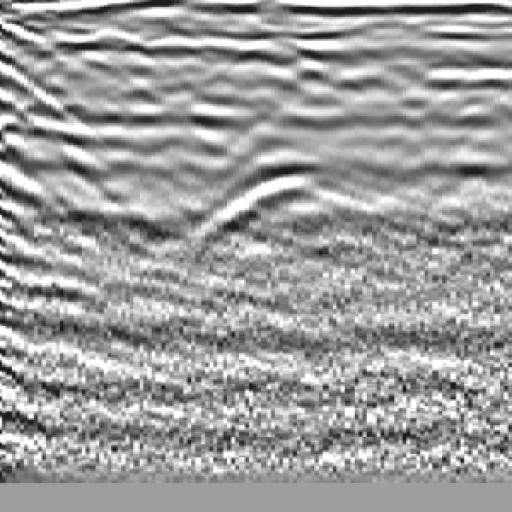metalic: (180, 127, 408, 285)
nonmetalic: (1, 49, 108, 255)
